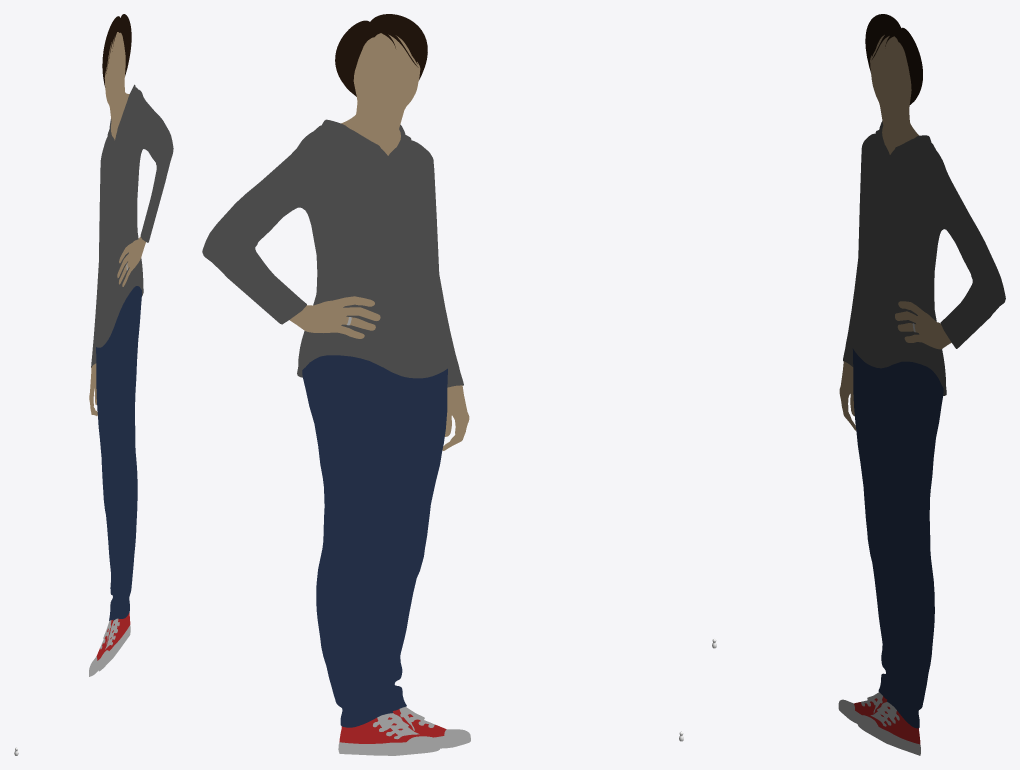
The model's file is HalmaKegel2cm.dae.
3 views of the same model, side by side, from view 1: azimuth 30°, elevation 25°; view 2: azimuth 150°, elevation 25°; view 3: azimuth 270°, elevation 25° (orthographic). The views are drawn at different scales.
Visible parts, largest first — view 1: Stacy (×8); view 2: Stacy (×8); view 3: Stacy (×8).
Boxes of the visible parts, left/top/right/bottom form: Stacy (×8): left=89, top=14, right=173, bottom=676; Stacy (×8): left=202, top=14, right=470, bottom=755; Stacy (×8): left=838, top=14, right=1005, bottom=755.
Bounding box in the file's own units: 30.79 × 23.92 × 65.57.
